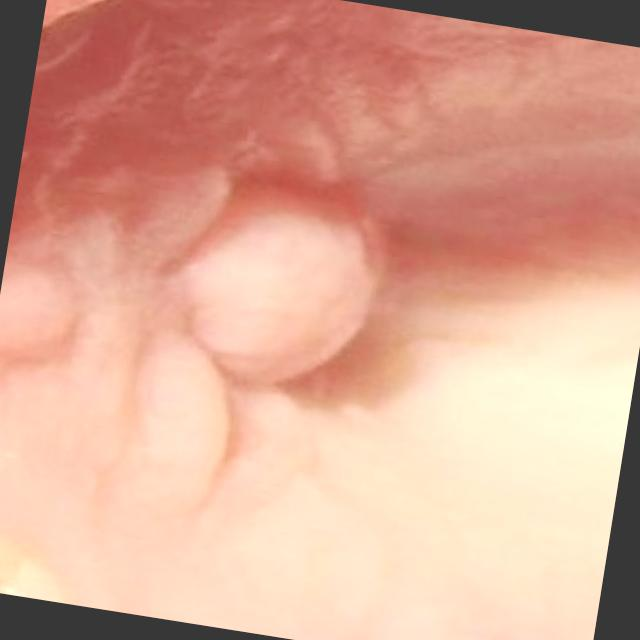Cancer: (92, 106, 472, 465)
